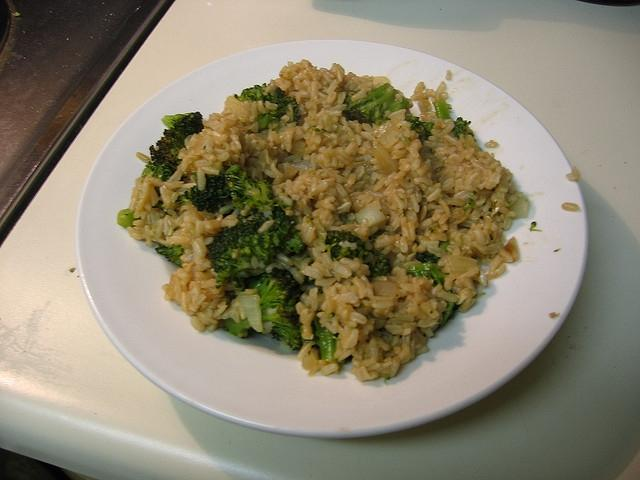broccoli: (224, 267, 304, 350), (208, 215, 280, 289), (324, 230, 392, 283), (225, 162, 290, 214), (343, 82, 412, 128), (304, 316, 345, 364), (256, 87, 301, 129), (190, 172, 232, 214), (432, 98, 474, 140), (162, 111, 205, 149), (406, 261, 449, 289), (155, 244, 185, 267), (118, 208, 140, 228)
